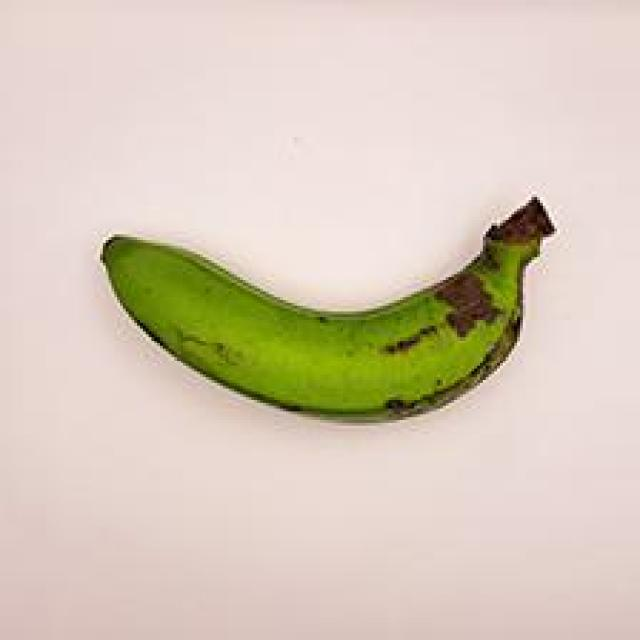Raw: (82, 177, 568, 448)
